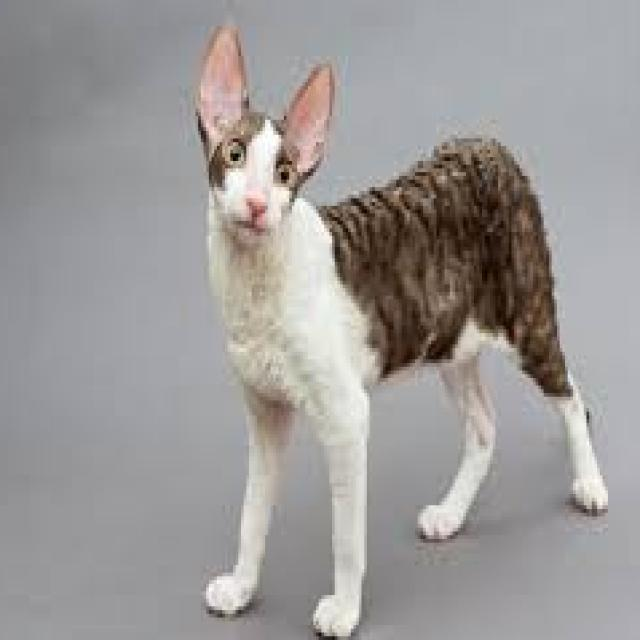Cornish Rex: (187, 15, 614, 640)
